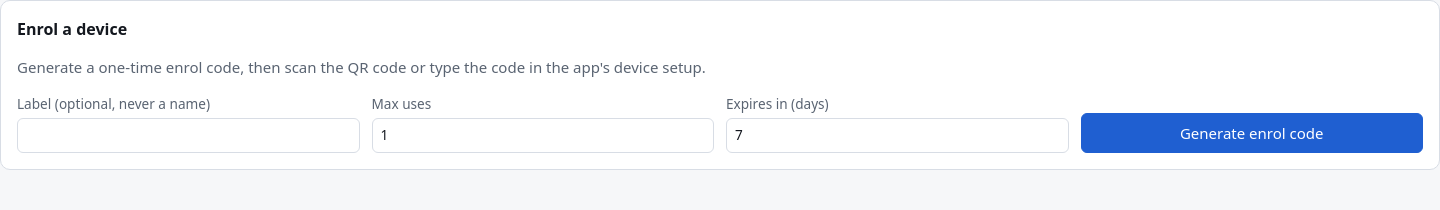
EnrolCodePanel › shows an alert on failure and hides the form for roles that cannot enrol
Click the button "Generate enrol code".
click(1252, 133)  # box [1080, 113, 1423, 153]
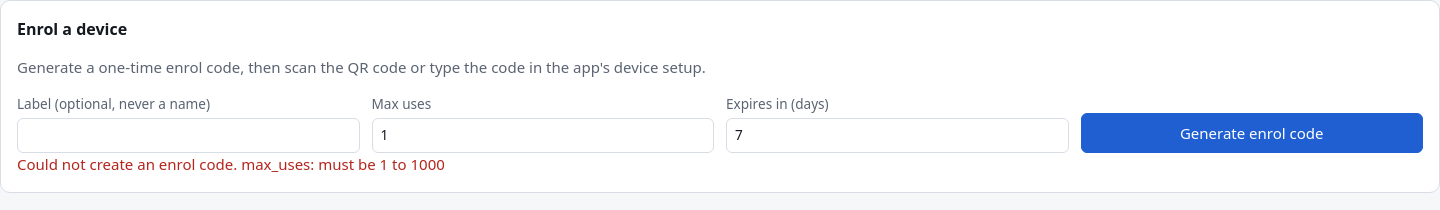
Expected: the message shows "max_uses: must be 1 to 1000", [241, 154, 445, 174]
